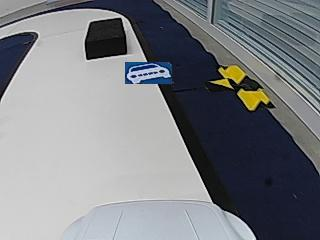block: (85, 18, 127, 59)
